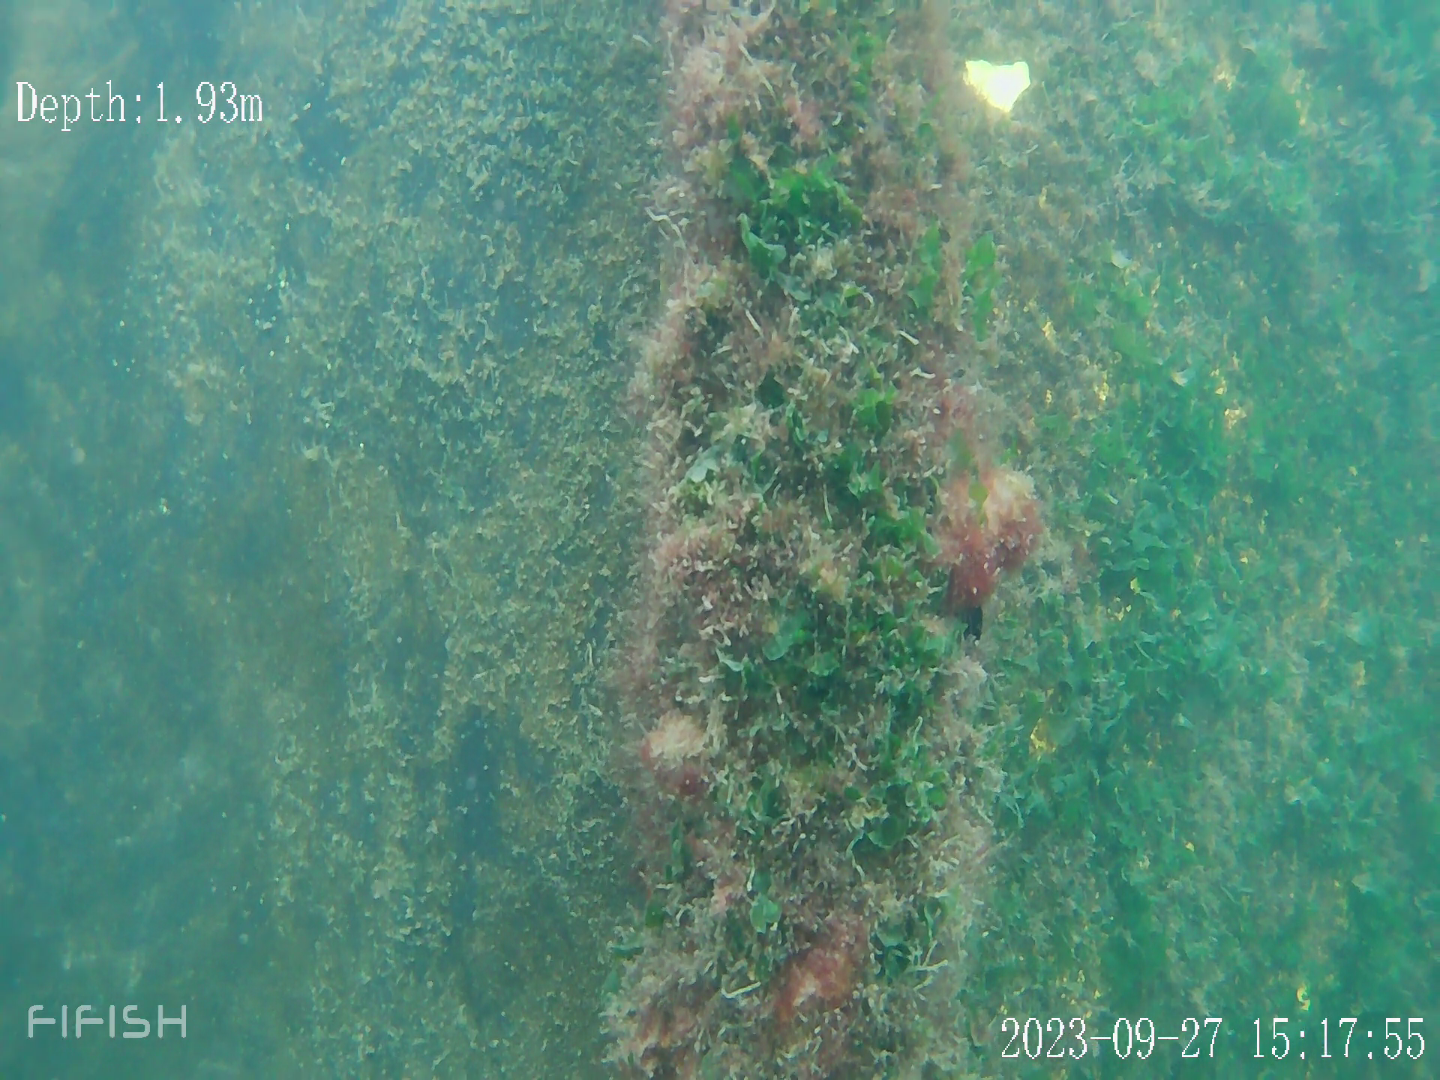anode: (637, 1, 991, 1080)
